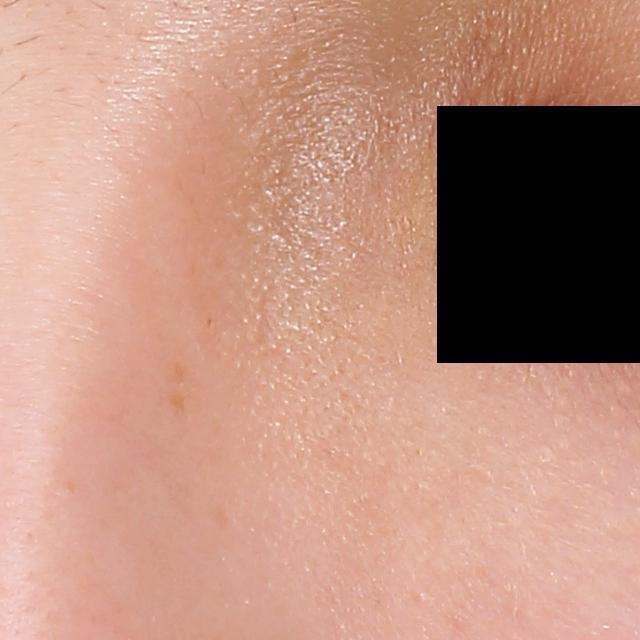melasma: (165, 389, 189, 417), (171, 360, 188, 383)
